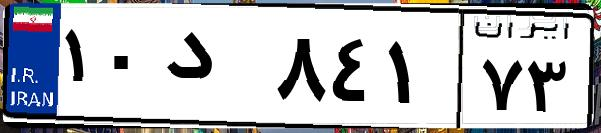0: (110, 28, 158, 98)
1: (385, 28, 445, 110), (57, 26, 110, 100)
3: (525, 38, 570, 115)
4: (330, 28, 385, 110)
7: (475, 38, 525, 113)
8: (270, 28, 330, 110)
د: (158, 20, 270, 120)
